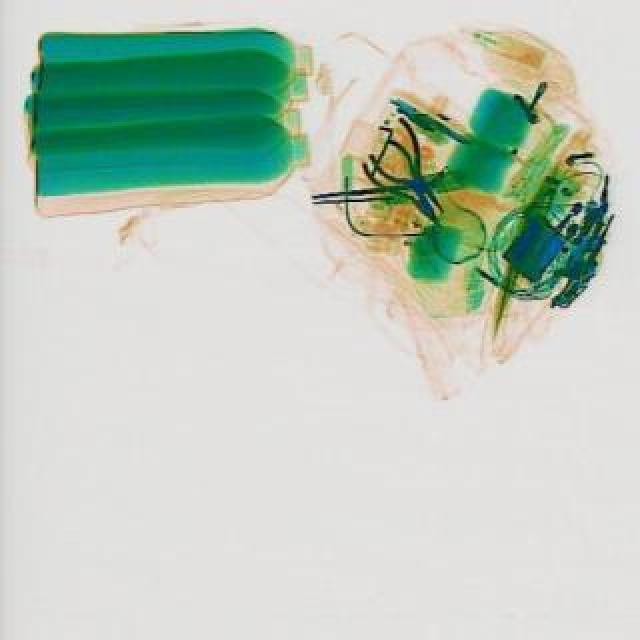wrench: (356, 120, 466, 230), (354, 140, 458, 244)
